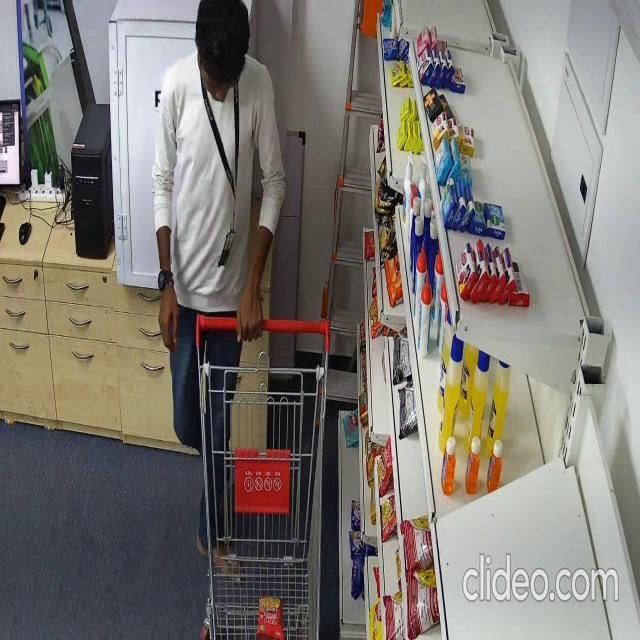normal: (155, 0, 286, 582)
